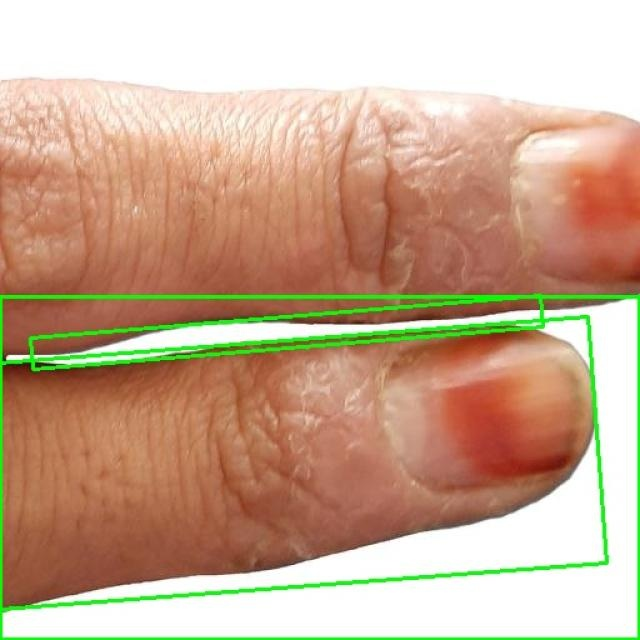Contact Dermatitis: (0, 296, 639, 639), (0, 317, 607, 611), (31, 296, 543, 369)
